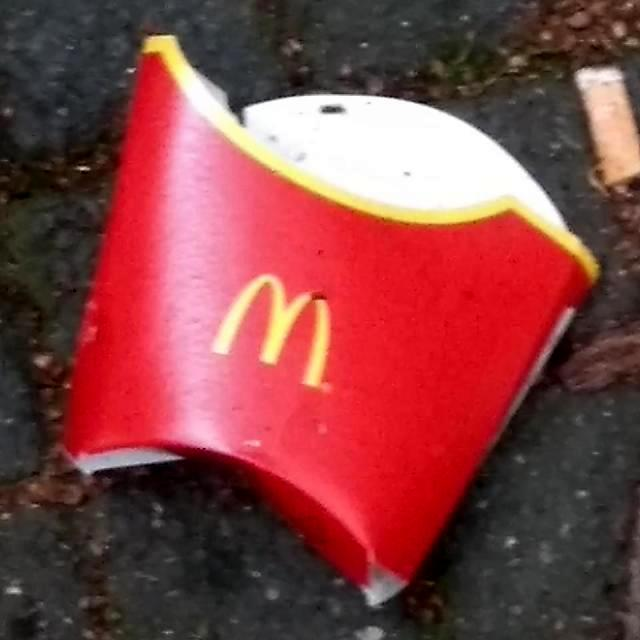Paper: (52, 26, 604, 612)
